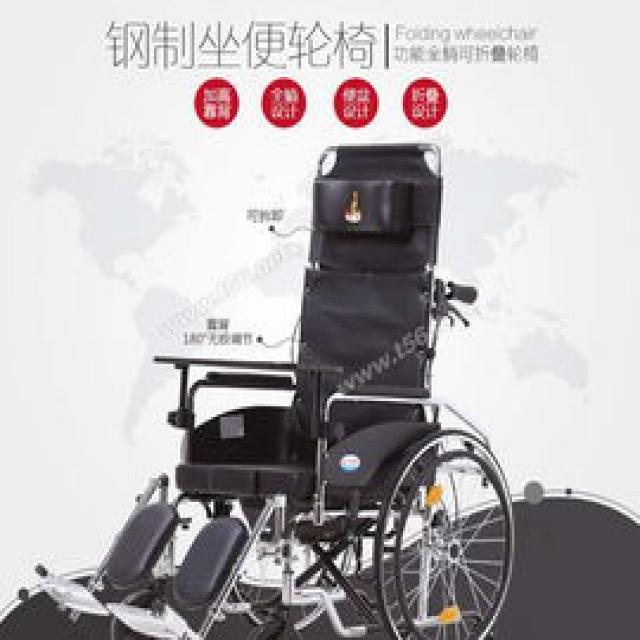wheelchair: (0, 128, 512, 638)
